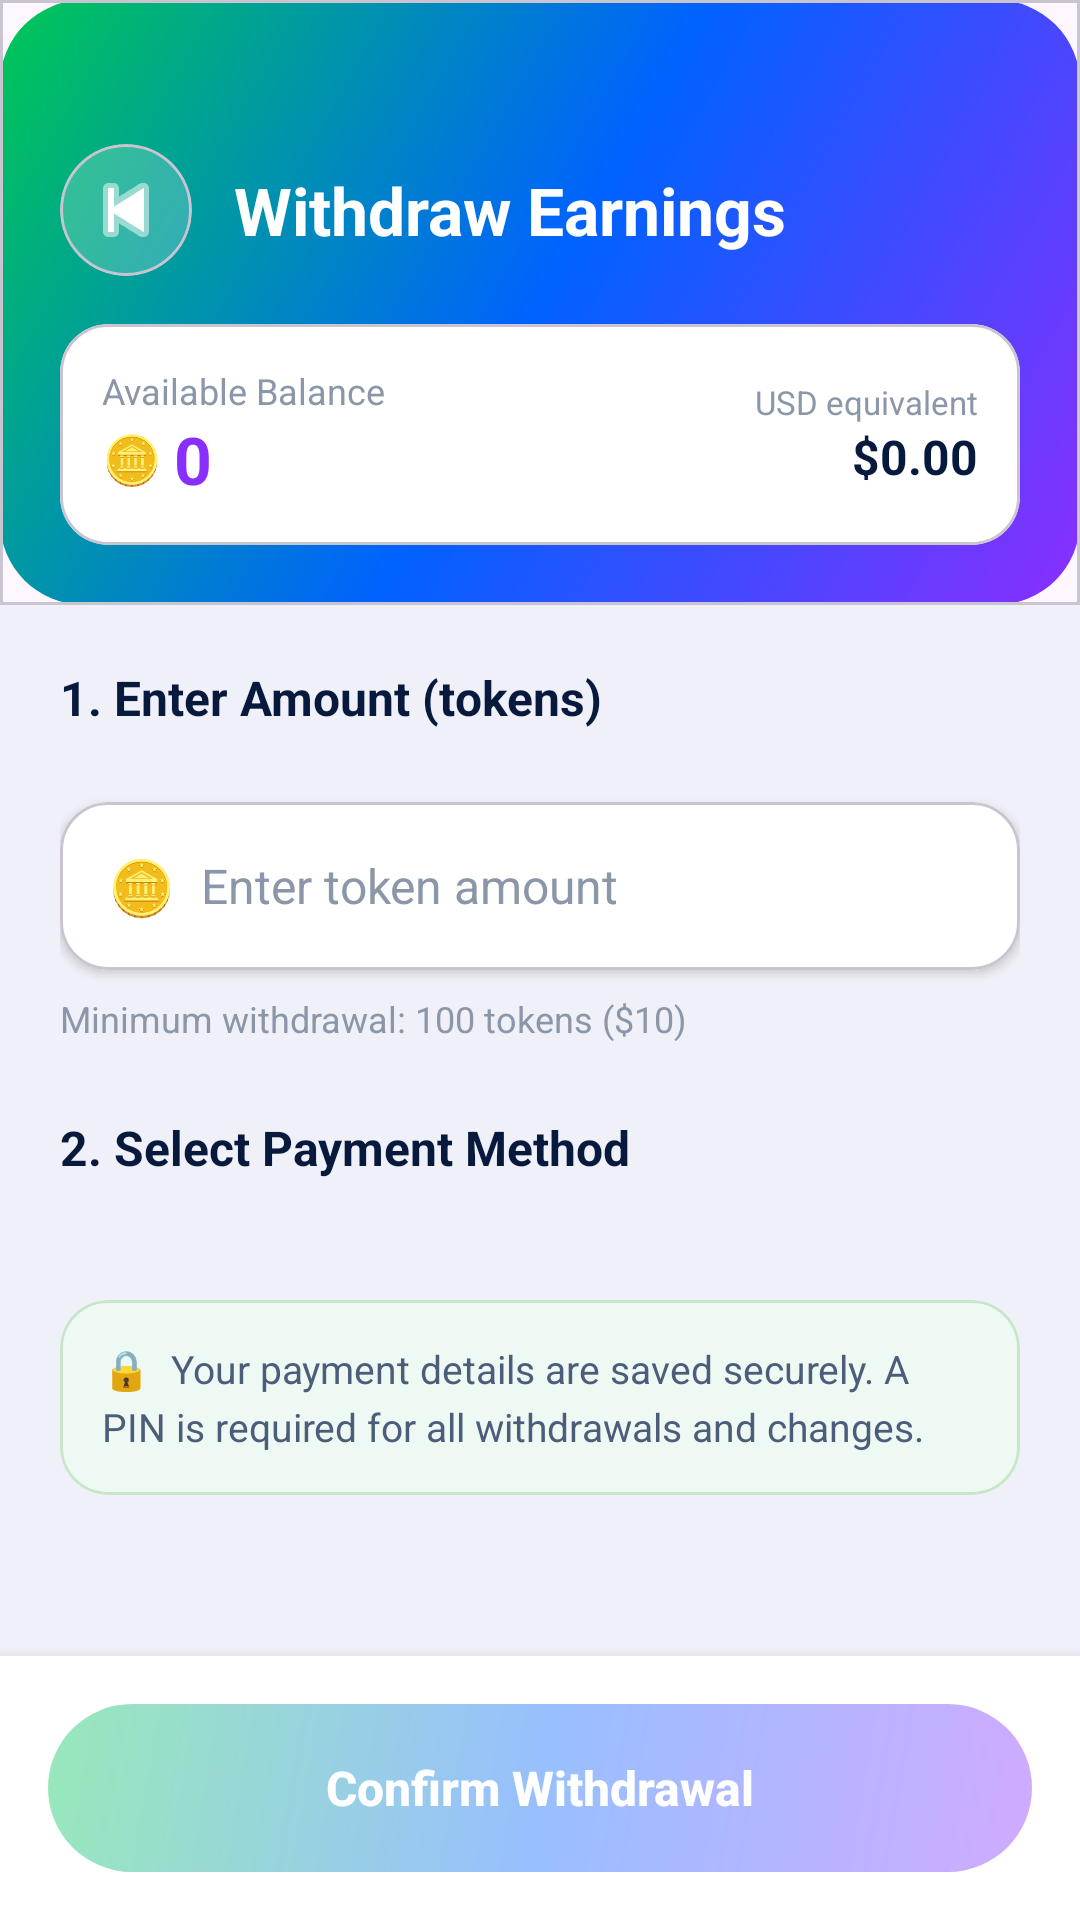

Point at icon controls on the screen. Image size 1080×1920, points as (x,y).
Back: (126,210)
